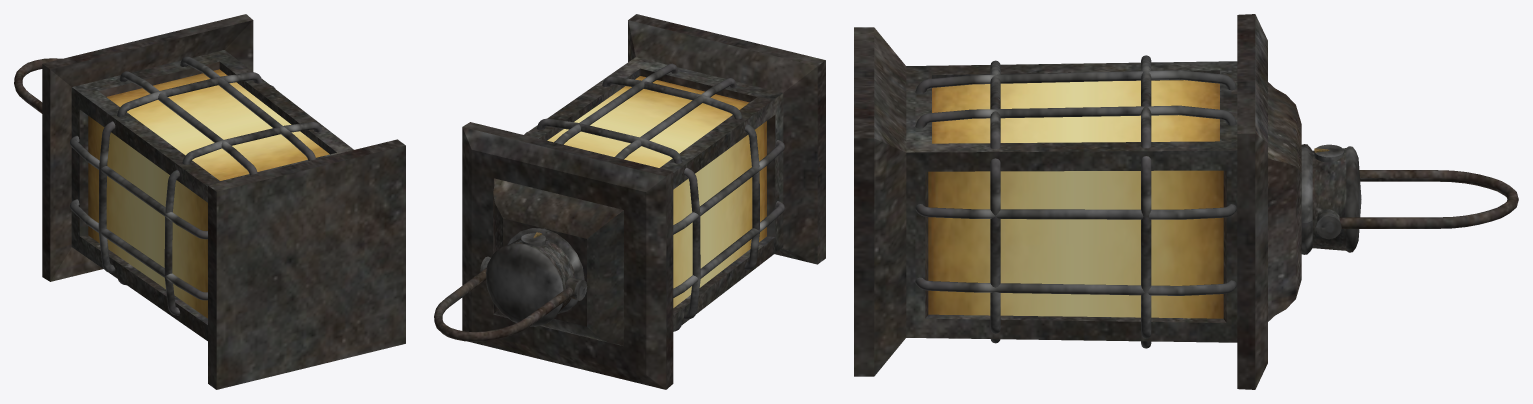
Rendered from Lantern01.fbx.
3 renders of one model, left to right at view 1: azimuth 30°, elevation 25°; view 2: azimuth 150°, elevation 25°; view 3: azimuth 270°, elevation 25°, orthographic. The views are drawn at different scales.
Visible parts, largest first — view 1: Lantern01; view 2: Lantern01; view 3: Lantern01.
Part boxes in pixels (x1=…): Lantern01: x1=14, y1=14, x2=405, y2=389; Lantern01: x1=434, y1=14, x2=825, y2=389; Lantern01: x1=854, y1=14, x2=1518, y2=389.
Size of the model in its own units: 27.03 by 27.03 by 63.5.
